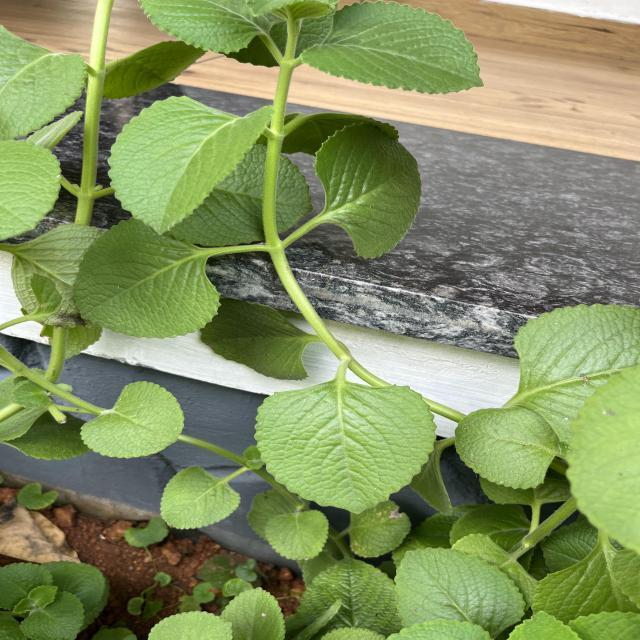Plectranthus barbatus: (252, 382, 438, 515), (107, 94, 276, 236), (73, 216, 223, 340), (302, 0, 486, 95), (312, 120, 423, 260), (393, 546, 528, 636), (78, 380, 182, 460), (454, 407, 552, 491), (160, 465, 242, 530), (264, 509, 330, 561), (18, 590, 84, 640)
